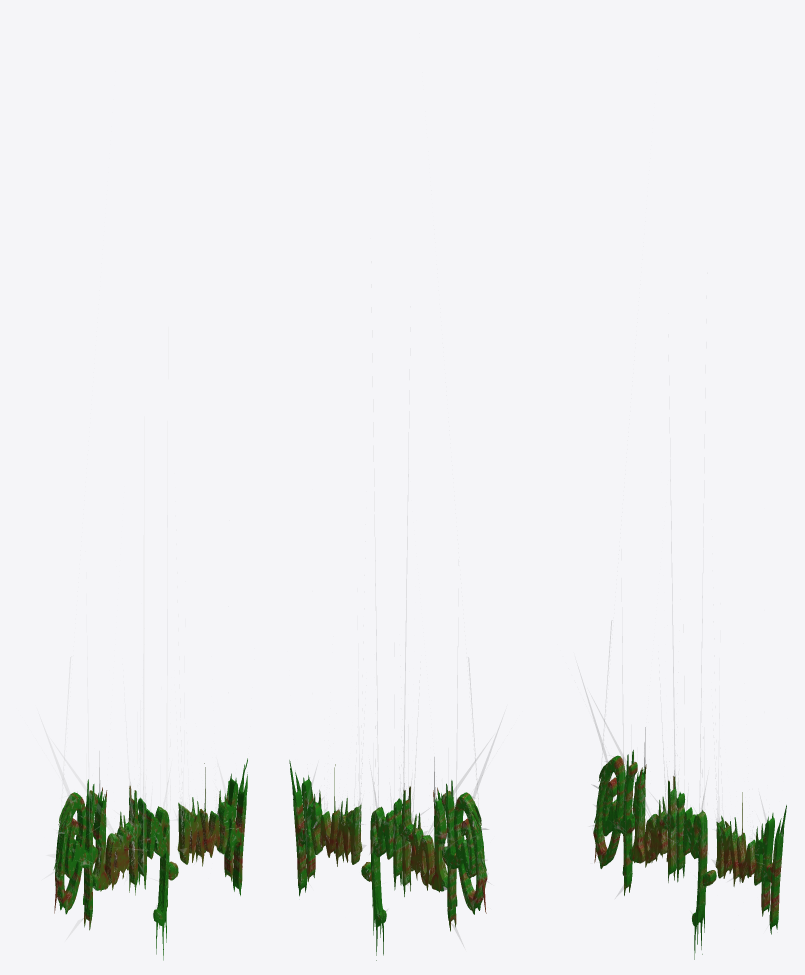
3 views of the same model, side by side, from view 1: azimuth 30°, elevation 25°; view 2: azimuth 150°, elevation 25°; view 3: azimuth 330°, elevation 25° (orthographic). The views are drawn at different scales.
Visible parts, largest first — view 1: Box ext (×2); view 2: Box ext (×2); view 3: Box ext (×2).
Part boxes in pixels (x1,y1,x2,y2): Box ext (×2): (41,515,247,960); Box ext (×2): (289,474,502,960); Box ext (×2): (580,480,786,959).
Size of the model in its own units: 16.87 by 63.58 by 1.8.
Materials: 2 (2 with a texture image).
